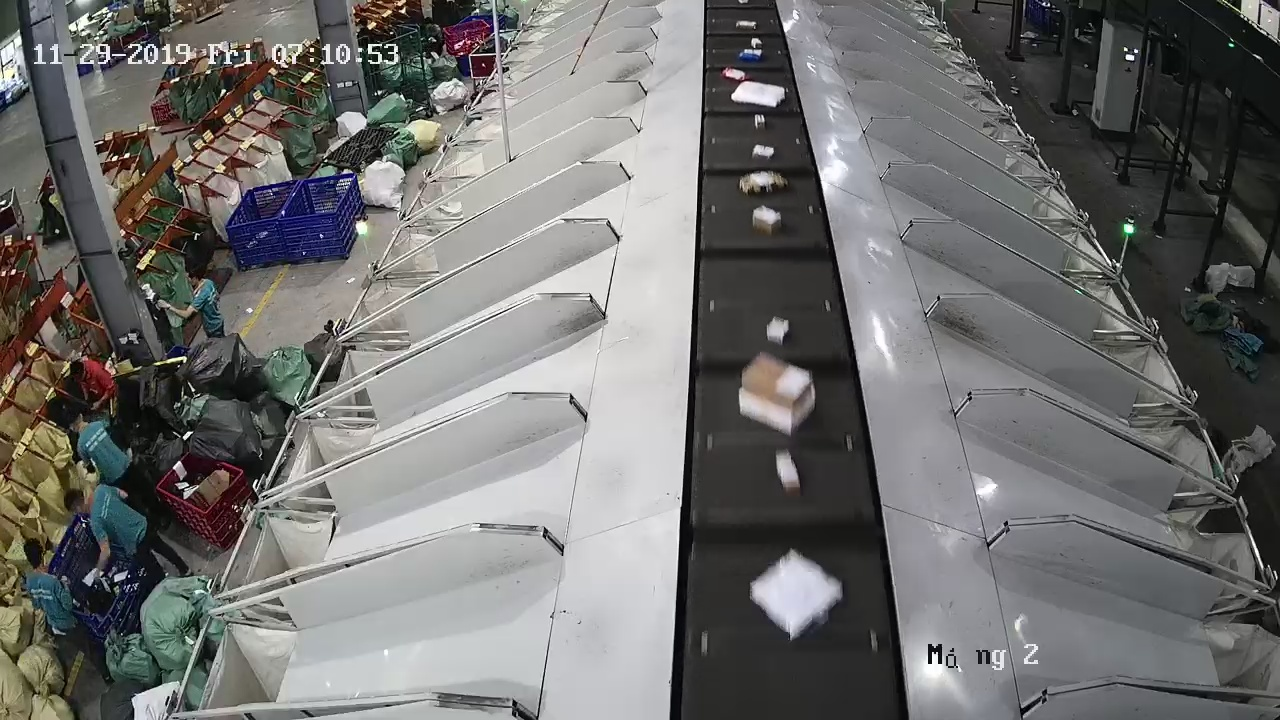parcel: (750, 550, 843, 641), (738, 354, 816, 437), (739, 171, 789, 196), (777, 453, 802, 497), (752, 205, 783, 236), (766, 316, 789, 346), (751, 144, 775, 160)
